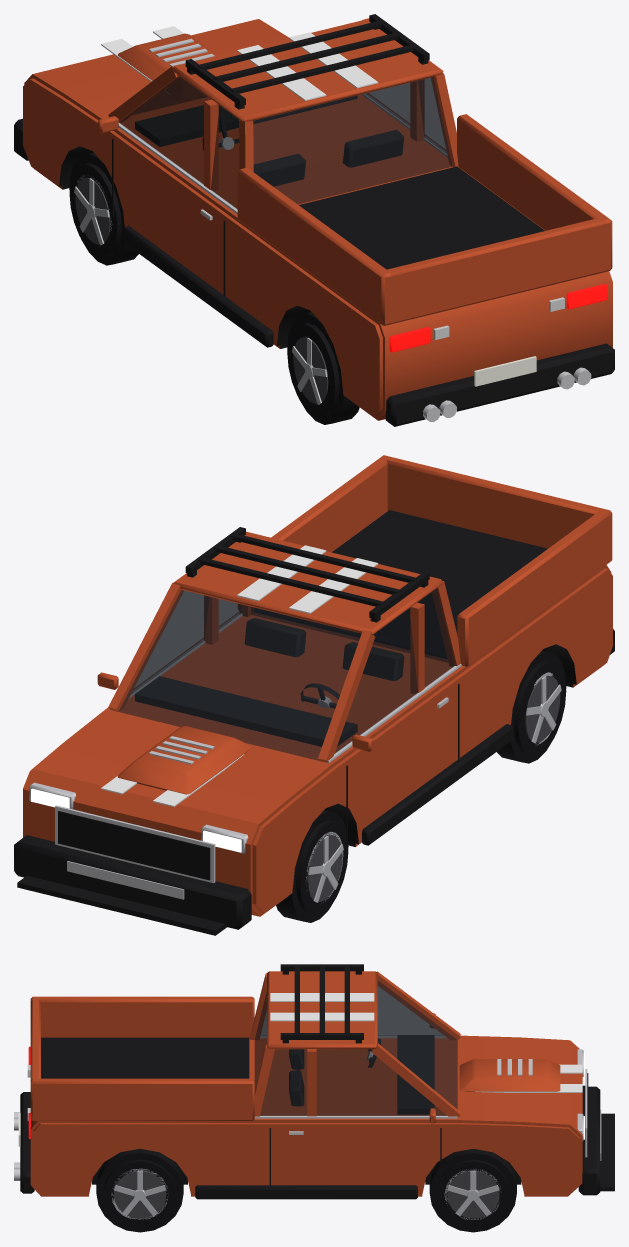
The model's file is pickup.glb.
3 views of the same model, one above another, from view 1: azimuth 30°, elevation 25°; view 2: azimuth 150°, elevation 25°; view 3: azimuth 270°, elevation 25° (orthographic). The views are drawn at different scales.
Parts seen in each view (by area): view 1: Body.005, Mod_roof_1.005, Wheel_RL.005, Wheel_FL.005, Mod_skirts_1.005, Mod_livery_1.005, Mod_hood_1.005, Mod_exhaust_2.005, Mod_hood_2.005; view 2: Body.005, Mod_bumper_1.005, Mod_roof_1.005, Wheel_FL.005, Wheel_RL.005, Mod_hood_1.005, Mod_grille_1.005, Mod_grille_2.005, Mod_skirts_1.005, Mod_livery_1.005, Mod_bumper_2.005, Mod_hood_2.005; view 3: Body.005, Wheel_RR.005, Wheel_FR.005, Mod_skirts_1.005, Mod_hood_1.005, Mod_roof_1.005, Mod_livery_1.005, Mod_bumper_1.005, Mod_bumper_2.005.
Part boxes in pixels (x1=…): Body.005: x1=23, y1=18, x2=614, y2=426; Mod_roof_1.005: x1=185, y1=14, x2=429, y2=109; Wheel_RL.005: x1=287, y1=312, x2=359, y2=424; Wheel_FL.005: x1=69, y1=152, x2=138, y2=265; Mod_skirts_1.005: x1=122, y1=226, x2=273, y2=347; Mod_livery_1.005: x1=101, y1=26, x2=378, y2=100; Mod_hood_1.005: x1=118, y1=33, x2=217, y2=100; Mod_exhaust_2.005: x1=423, y1=367, x2=591, y2=421; Mod_hood_2.005: x1=149, y1=38, x2=214, y2=66; Body.005: x1=23, y1=455, x2=614, y2=916; Mod_bumper_1.005: x1=14, y1=835, x2=251, y2=929; Mod_roof_1.005: x1=185, y1=527, x2=429, y2=622; Wheel_FL.005: x1=276, y1=810, x2=348, y2=922; Wheel_RL.005: x1=497, y1=650, x2=566, y2=763; Mod_hood_1.005: x1=117, y1=726, x2=252, y2=794; Mod_grille_1.005: x1=67, y1=812, x2=201, y2=878; Mod_grille_2.005: x1=55, y1=805, x2=215, y2=883; Mod_skirts_1.005: x1=362, y1=724, x2=513, y2=845; Mod_livery_1.005: x1=101, y1=545, x2=378, y2=806; Mod_bumper_2.005: x1=17, y1=875, x2=226, y2=935; Mod_hood_2.005: x1=149, y1=736, x2=214, y2=764; Body.005: x1=18, y1=971, x2=585, y2=1196; Wheel_RR.005: x1=96, y1=1148, x2=183, y2=1232; Wheel_FR.005: x1=429, y1=1148, x2=516, y2=1232; Mod_skirts_1.005: x1=195, y1=1185, x2=417, y2=1199; Mod_hood_1.005: x1=459, y1=1059, x2=560, y2=1091; Mod_roof_1.005: x1=280, y1=964, x2=363, y2=1043; Mod_livery_1.005: x1=270, y1=993, x2=582, y2=1092; Mod_bumper_1.005: x1=579, y1=1086, x2=601, y2=1195; Mod_bumper_2.005: x1=600, y1=1113, x2=614, y2=1191.
Size of the model in its own units: 2.32 by 2.04 by 5.77.
